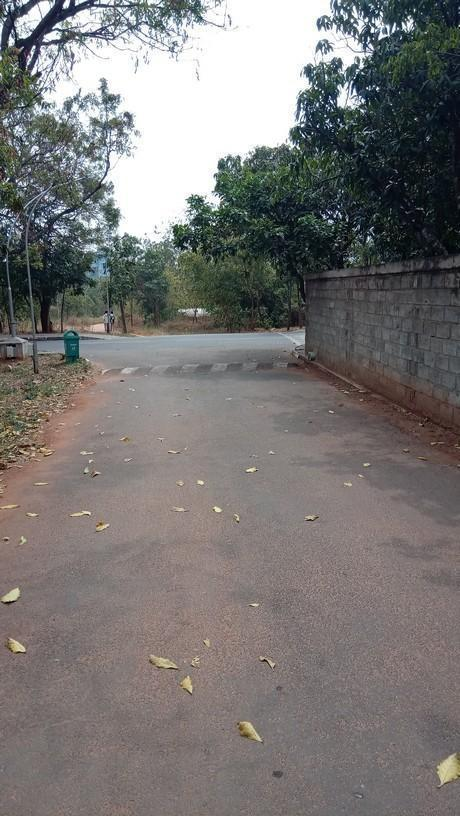speedbreaker: (94, 358, 304, 378)
